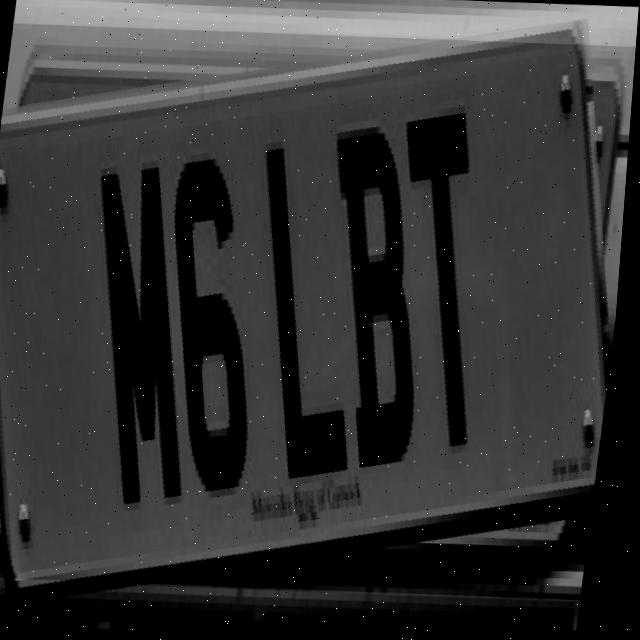LicensePlate: (0, 16, 639, 609)
